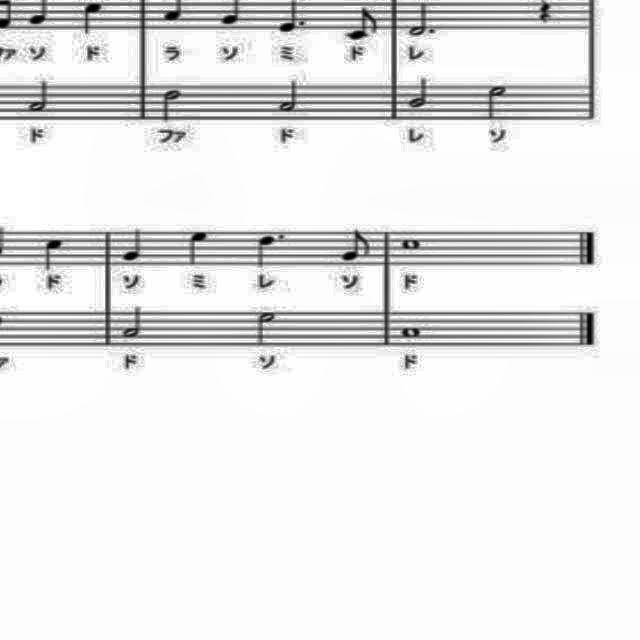Eighth-note: (342, 5, 383, 46), (336, 227, 376, 265)
Full-note: (396, 320, 424, 344), (401, 235, 421, 253)
Half-dot: (407, 0, 444, 40)
Half-note: (116, 302, 154, 342), (480, 79, 512, 121), (24, 74, 54, 116), (252, 310, 280, 350), (160, 86, 186, 126), (406, 76, 432, 116), (278, 78, 302, 115)
Quarter-dot: (251, 228, 287, 272), (272, 0, 308, 36)
Quarter-note: (75, 0, 109, 40), (186, 228, 214, 268), (41, 233, 68, 274), (122, 228, 150, 264)
Quarter-rest: (531, 0, 561, 26)
